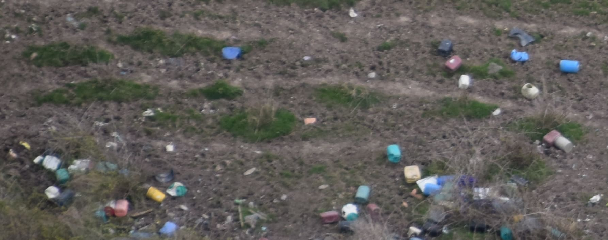scattered_barrel: (423, 22, 588, 156)
together_barrel: (312, 139, 534, 239), (29, 140, 189, 240)
white_in_green: (186, 14, 278, 88), (274, 87, 345, 149)
